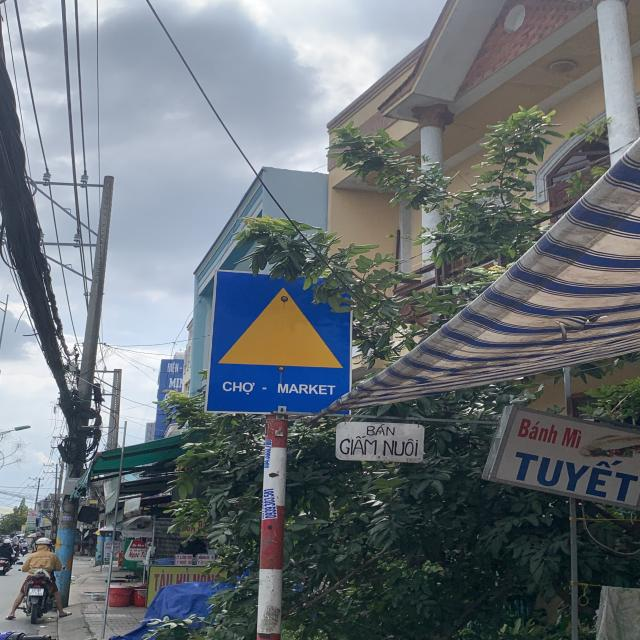Cho_Quay_Xe: (202, 272, 352, 417)
